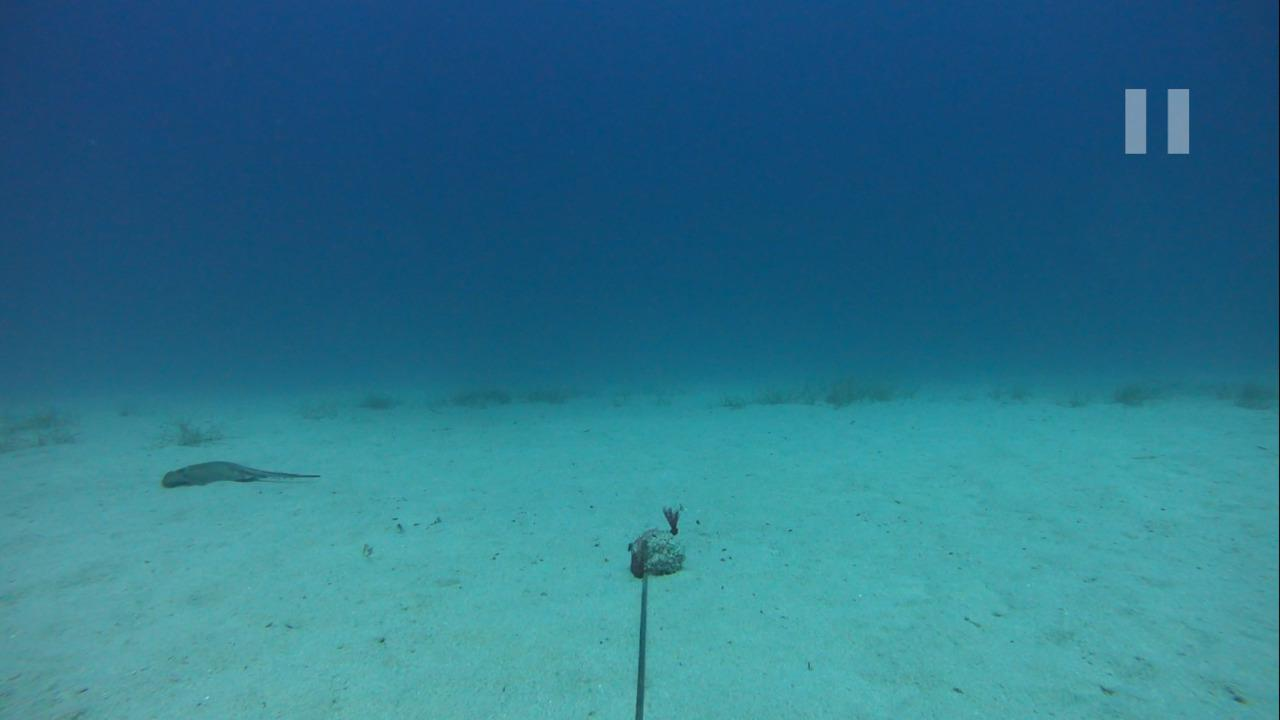myliobatis: (150, 455, 318, 490)
